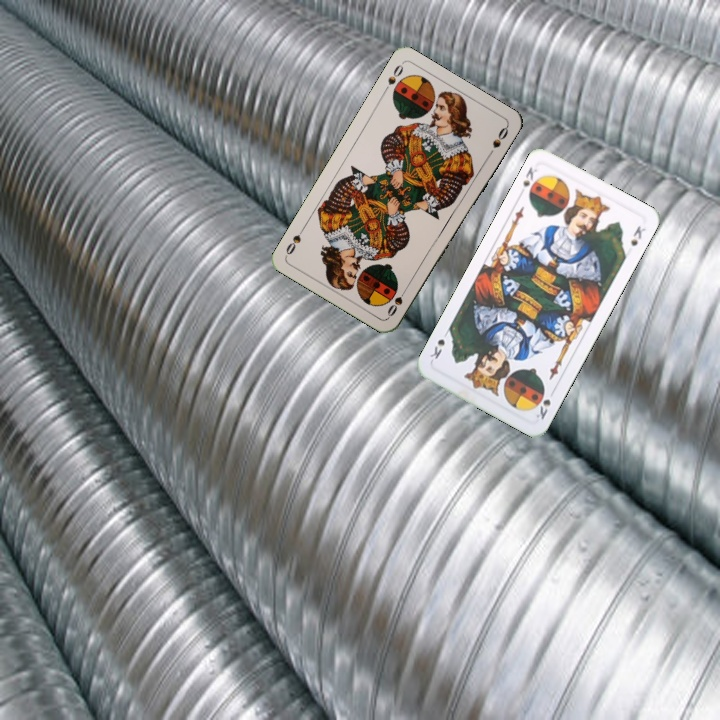SK: (532, 385, 558, 422), (518, 163, 540, 189)
SO: (383, 283, 411, 319), (379, 60, 406, 96)
